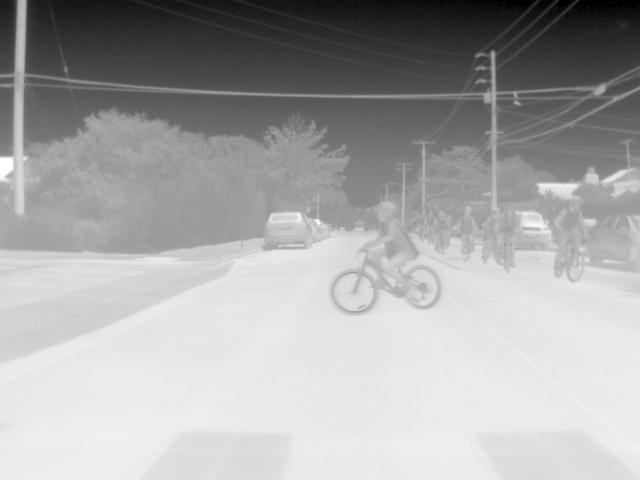car: (588, 212, 640, 267), (264, 212, 314, 248), (515, 211, 554, 250), (310, 218, 330, 237), (308, 221, 324, 242)
person: (362, 200, 421, 295), (499, 206, 521, 267), (476, 206, 502, 248), (458, 204, 479, 250), (431, 209, 453, 246), (424, 209, 438, 238)
